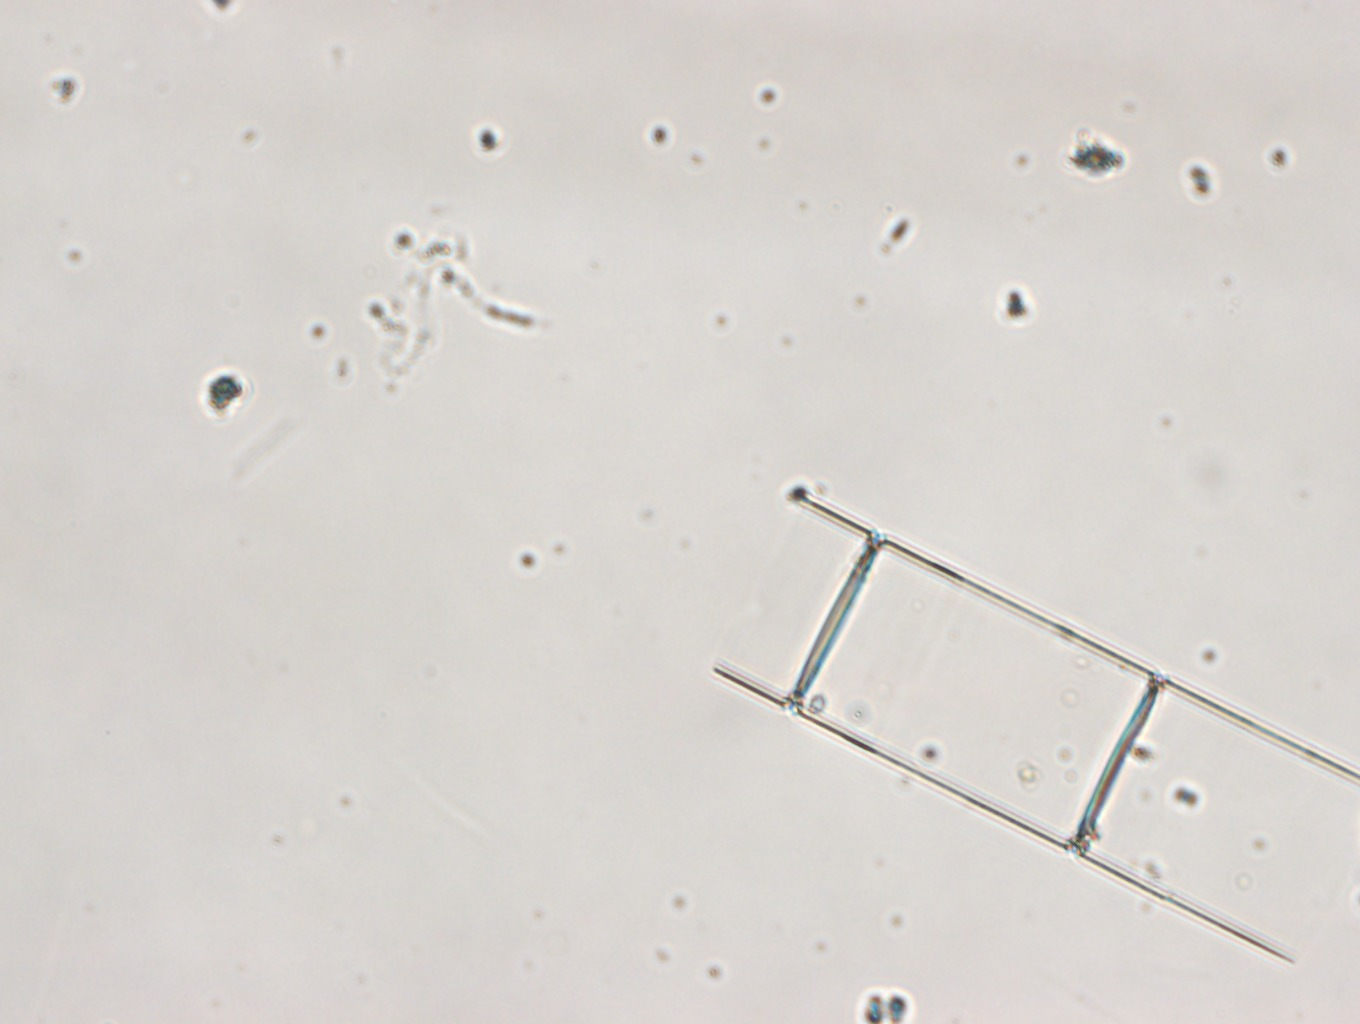guinardia flaccida: (712, 494, 1360, 961)
